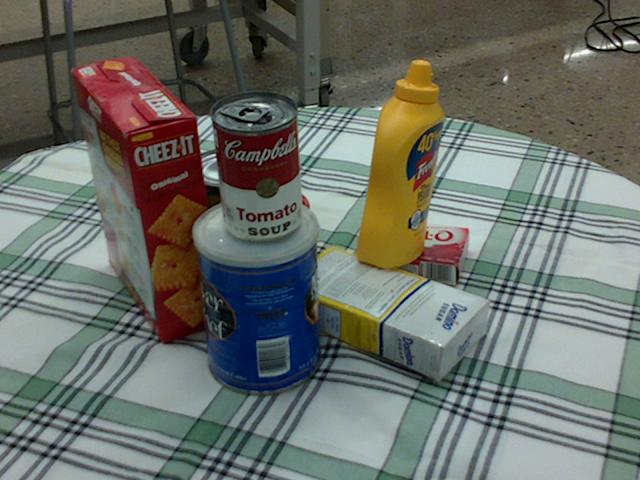cracker_box: (70, 59, 222, 341)
gelatin_box: (370, 218, 468, 287)
master_chef_can: (191, 195, 322, 395)
mug: (204, 184, 308, 295)
mustard_bottle: (356, 60, 443, 268)
potted_meat_can: (161, 167, 279, 257)
sugar_box: (279, 245, 491, 377)
tomato_soup_can: (208, 89, 300, 240)
tuna_fish_can: (187, 148, 269, 214)
